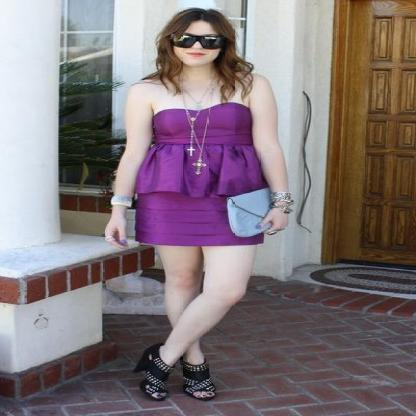bag: (227, 188, 308, 235)
dress: (127, 100, 271, 248)
shoe: (134, 336, 216, 400)
sunglass: (187, 32, 234, 50)
